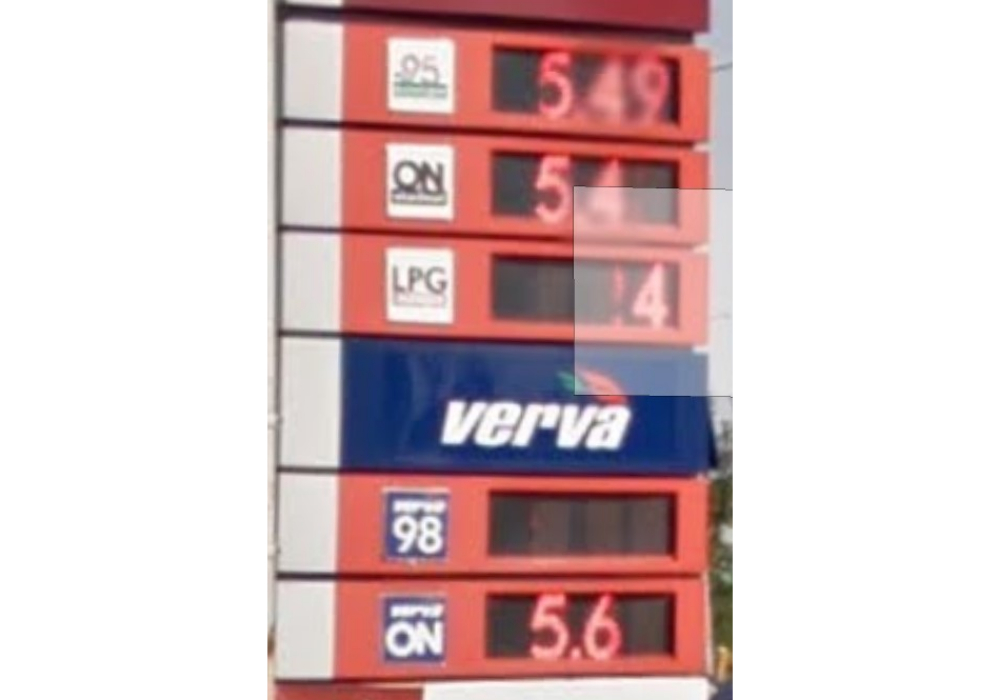LPG: (384, 243, 457, 328)
ON: (382, 142, 457, 222), (378, 589, 446, 665)
PB95: (386, 39, 457, 117)
PB98: (377, 484, 450, 566)
